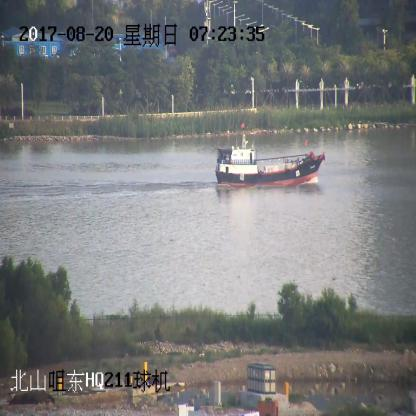Fishing Boat: (215, 134, 325, 188)
